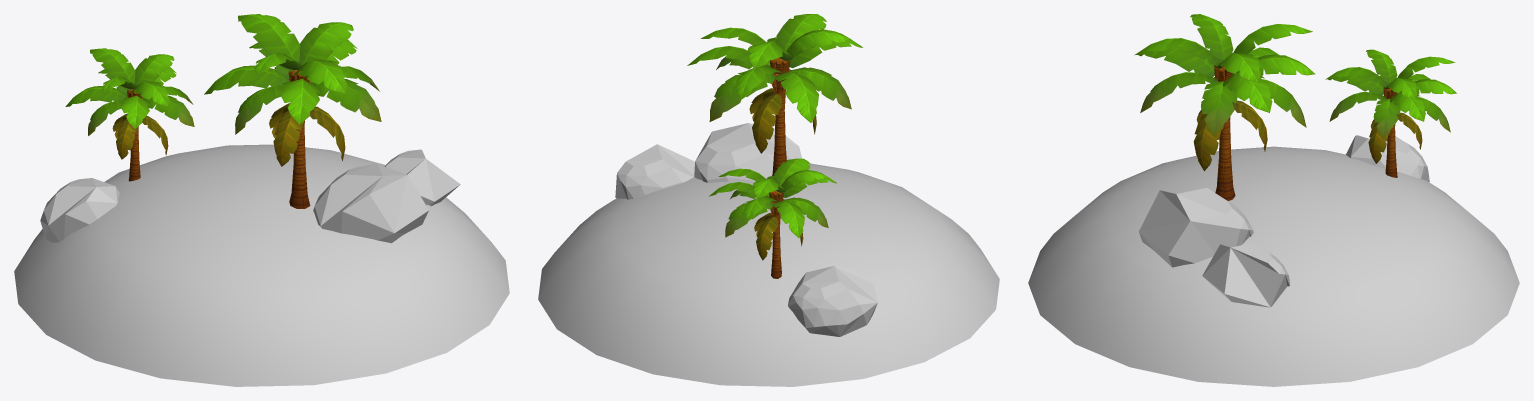
Rendered from island.fbx.
3 views of the same model, side by side, from view 1: azimuth 30°, elevation 25°; view 2: azimuth 150°, elevation 25°; view 3: azimuth 270°, elevation 25° (orthographic). The views are drawn at different scales.
Parts seen in each view (by area): view 1: coconut_tree2; view 2: coconut_tree2; view 3: coconut_tree2.
Part boxes in pixels (bbox=[...]): coconut_tree2: bbox=[14, 14, 509, 386]; coconut_tree2: bbox=[538, 14, 999, 386]; coconut_tree2: bbox=[1028, 14, 1519, 386].
Size of the model in its own units: 154 by 89.51 by 154.
